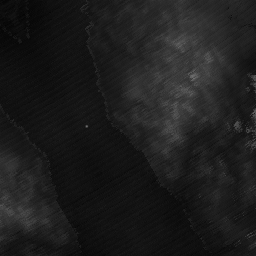Target: (83, 123, 90, 129)
